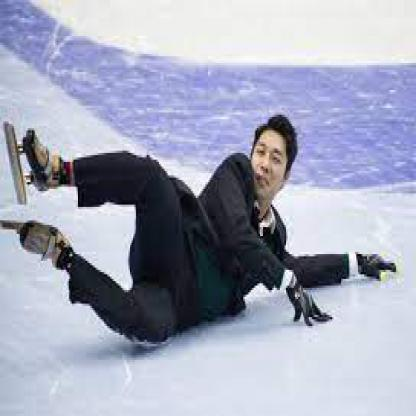Fall_Down: (17, 112, 401, 346)
